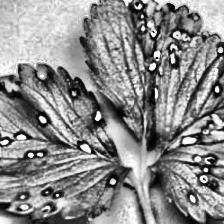Leaf Spot: (0, 61, 132, 221), (76, 0, 210, 149), (146, 32, 224, 224)
